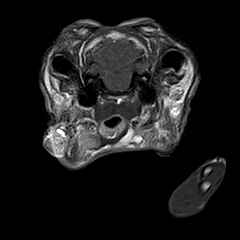Brain: (68, 17, 167, 115)
